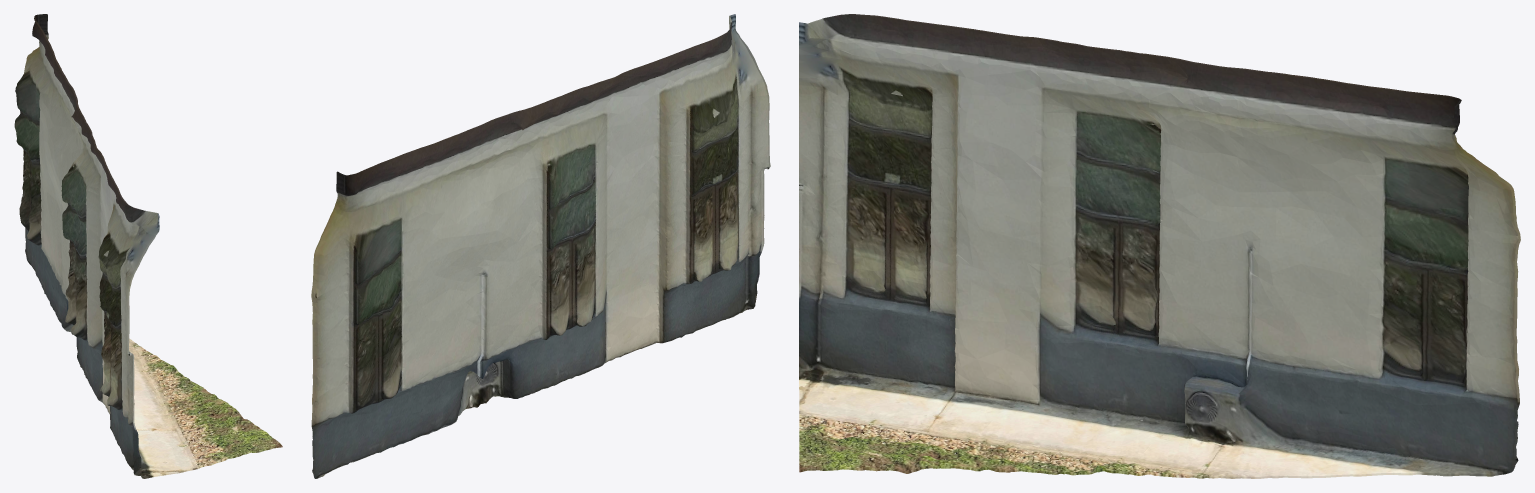
3 renders of one model, left to right at view 1: azimuth 30°, elevation 25°; view 2: azimuth 150°, elevation 25°; view 3: azimuth 270°, elevation 25°, orthographic. The views are drawn at different scales.
Parts seen in each view (by area): view 1: node_206; view 2: node_206; view 3: node_206.
Part boxes in pixels (bbox=[...]): node_206: bbox=[14, 14, 282, 478]; node_206: bbox=[311, 14, 770, 478]; node_206: bbox=[799, 14, 1520, 478].
Size of the model in its own units: 3.59 by 5.89 by 10.34.
Materials: 1 (1 with a texture image).
